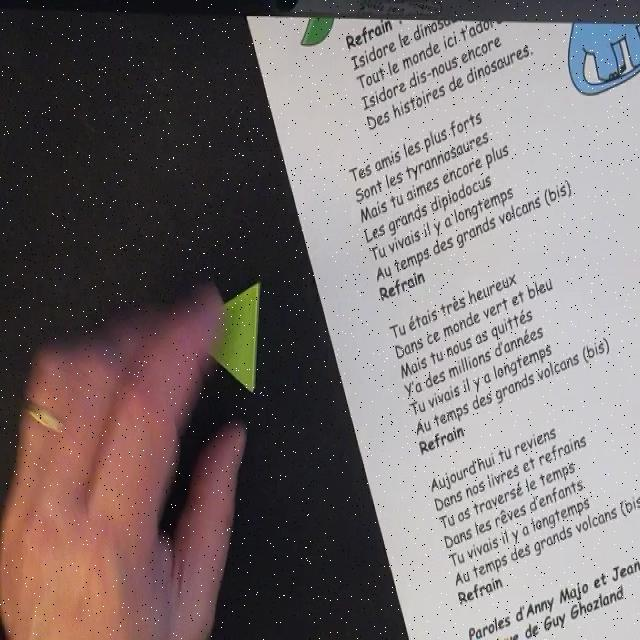triangle: (185, 279, 262, 394)
